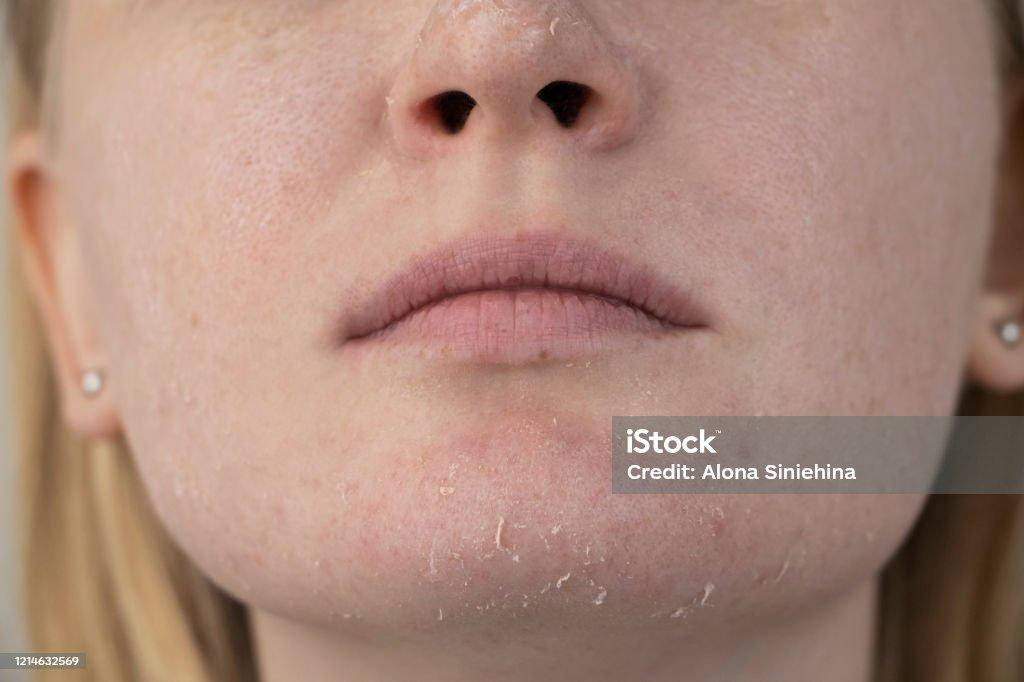Dry-Skin: (183, 43, 453, 237), (408, 518, 784, 641), (448, 3, 796, 120)
